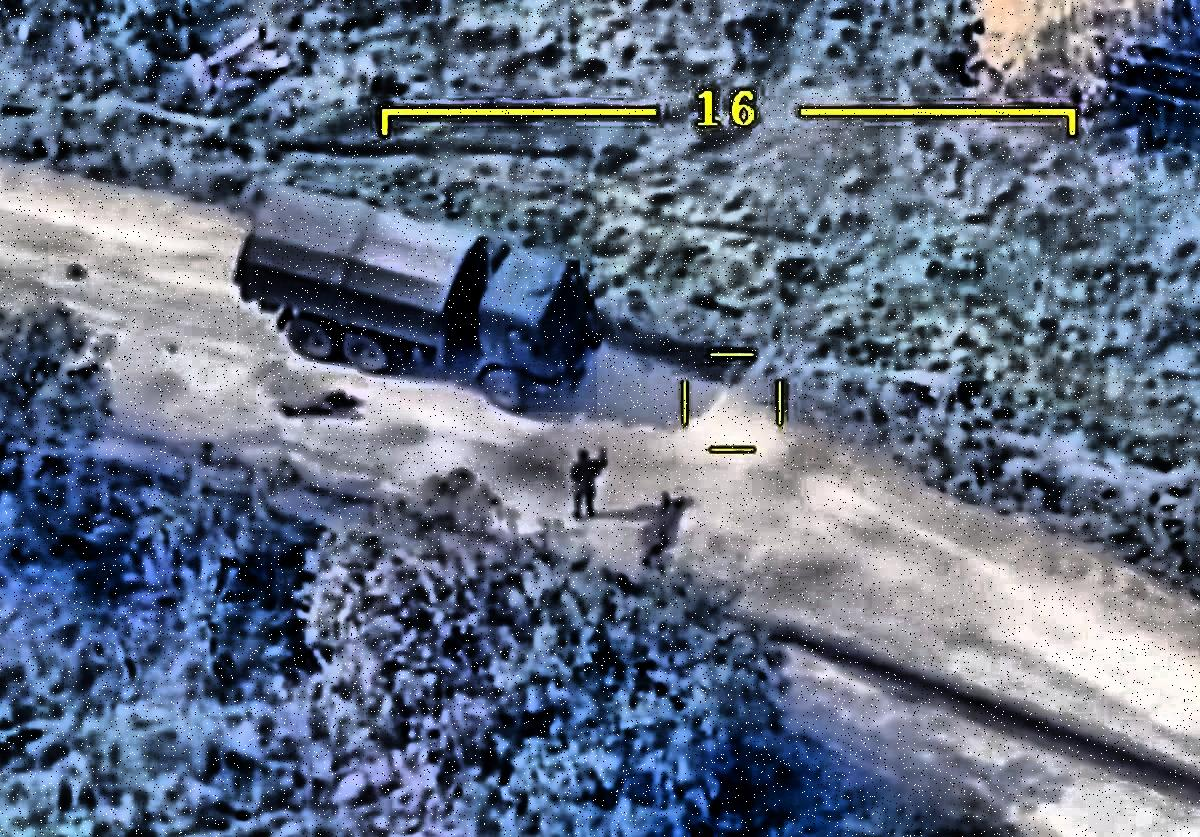military-vehicle: (237, 183, 597, 413)
